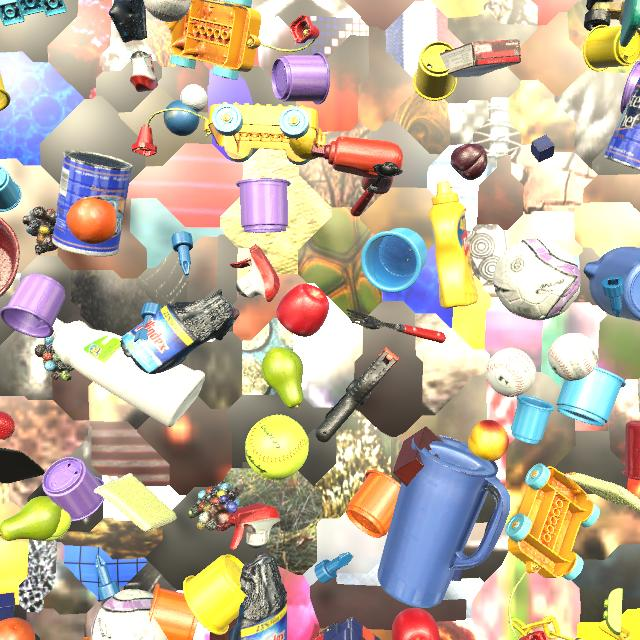ycb_002_master_chef_can: (52, 150, 133, 257), (602, 77, 640, 170)
ycb_006_mustard_bottle: (428, 181, 478, 309)
ycb_008_pudding_box: (431, 39, 521, 78)
ycb_012_strawberry: (0, 411, 15, 440)
ycb_013_apple: (276, 284, 329, 337), (392, 608, 439, 640)
ycb_014_lemon: (289, 127, 323, 160)
ycb_015_peach: (468, 420, 509, 461)
ycb_016_pear: (0, 496, 62, 541), (261, 347, 303, 409)
ycb_017_orange: (66, 198, 117, 245), (0, 617, 35, 640)
ycb_018_plum: (450, 143, 488, 180)
